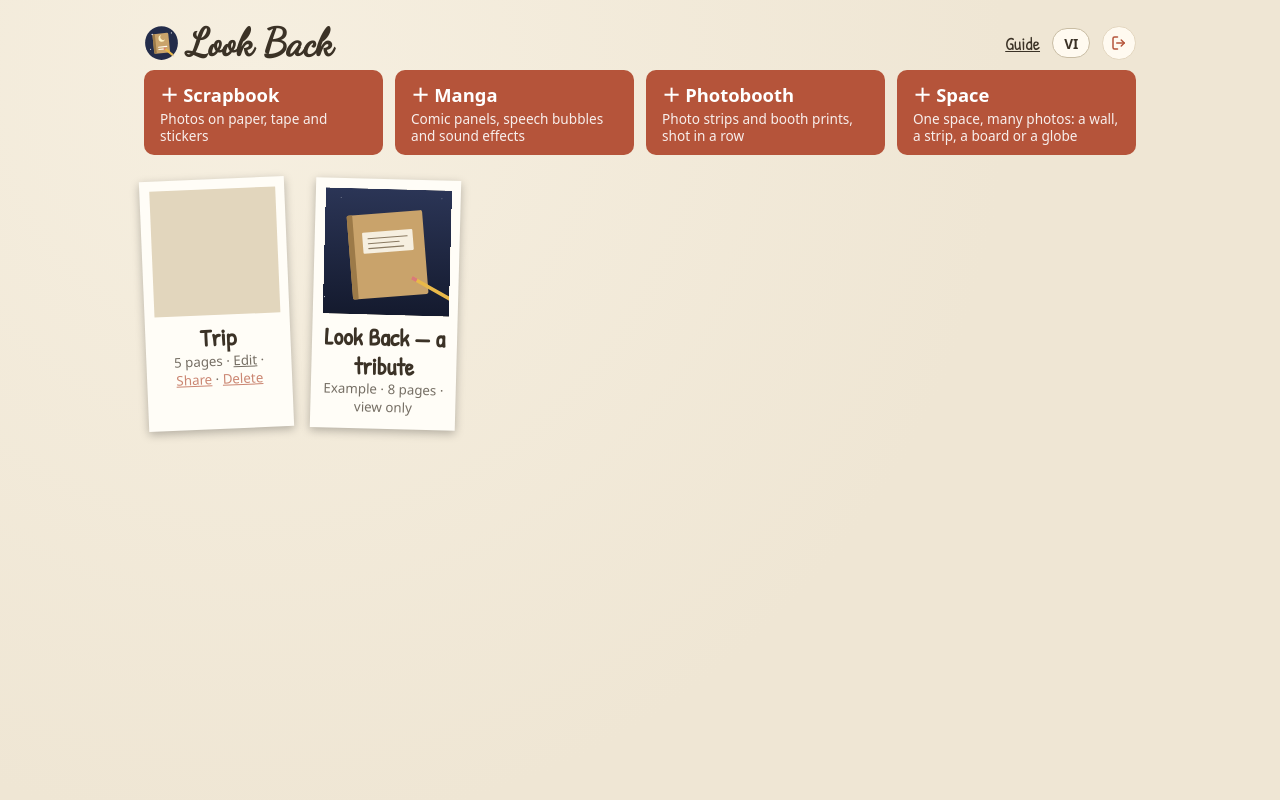
New album can start from another album’s design (sent as fromAlbumId) and lands first in the list
The width and height of the screenshot is (1280, 800).
Click the button with aria-label "New scrapbook album" at (264, 112), box left=144, top=70, right=383, bottom=155
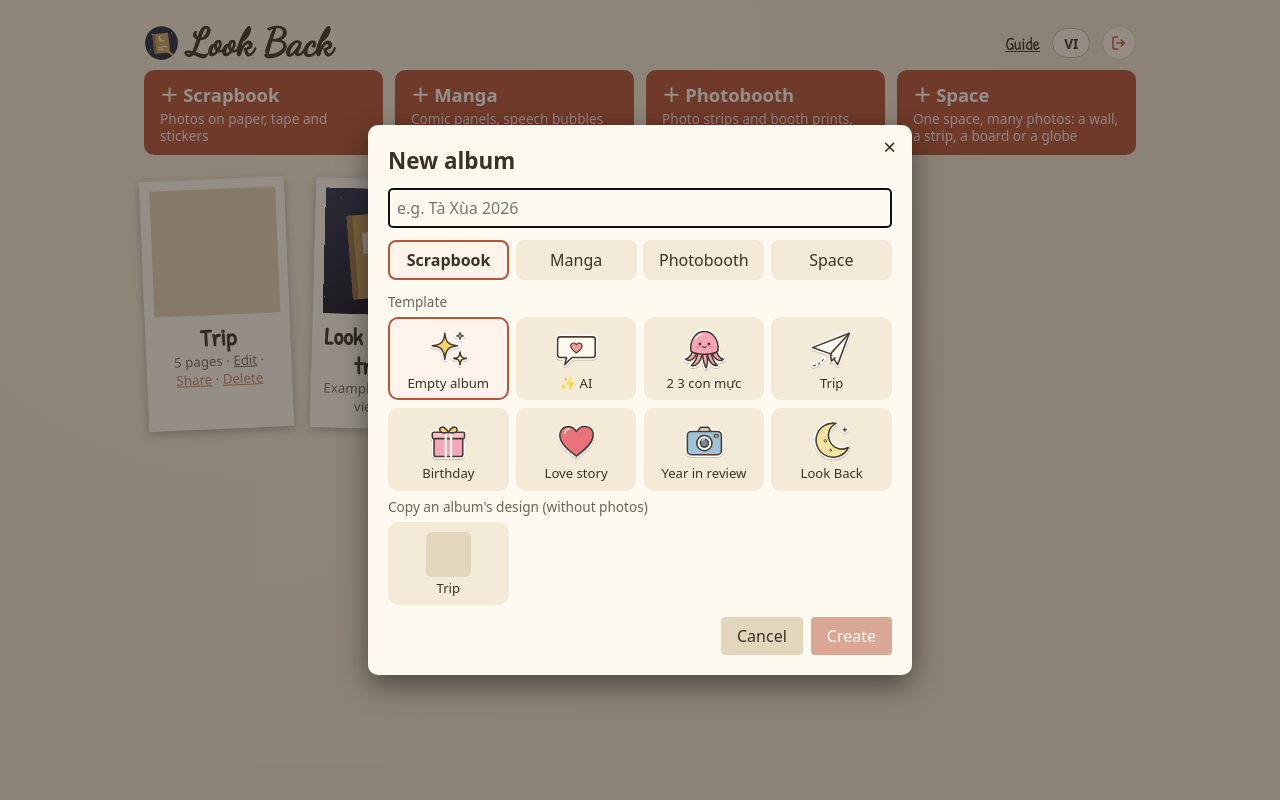
Type "Trip 2" into the field named "Album title" at (640, 208), box left=388, top=188, right=892, bottom=228
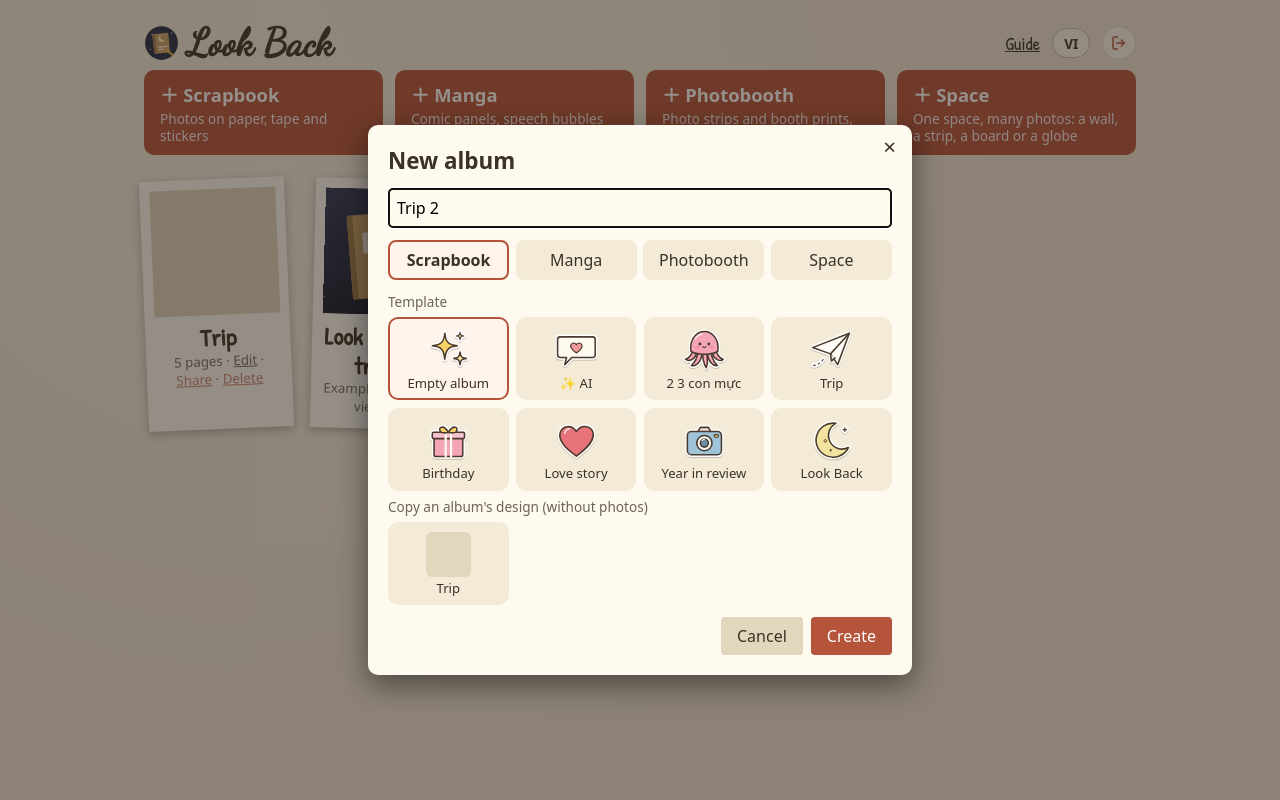
Click the 2nd radio button labelled "Trip" at (448, 564), box left=388, top=522, right=509, bottom=606
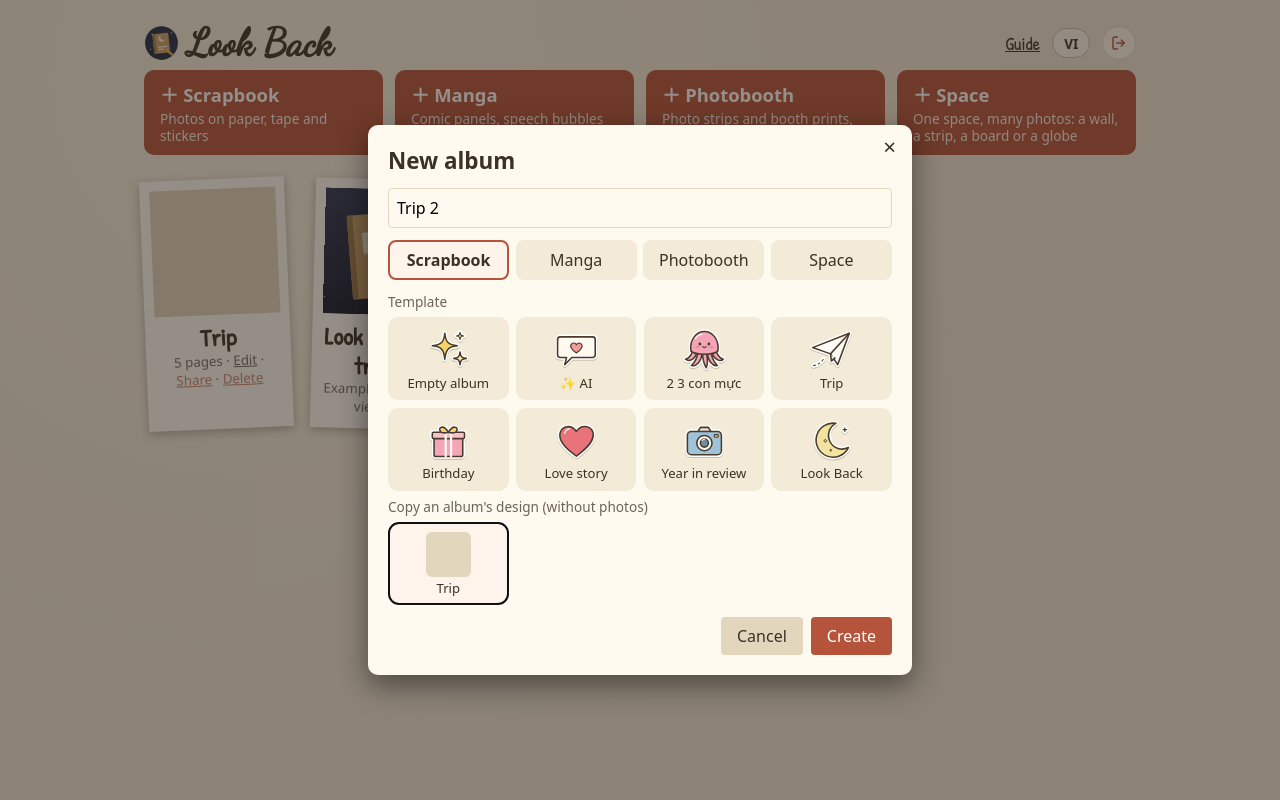
Click the button "Create" at (851, 636), box left=811, top=618, right=892, bottom=656
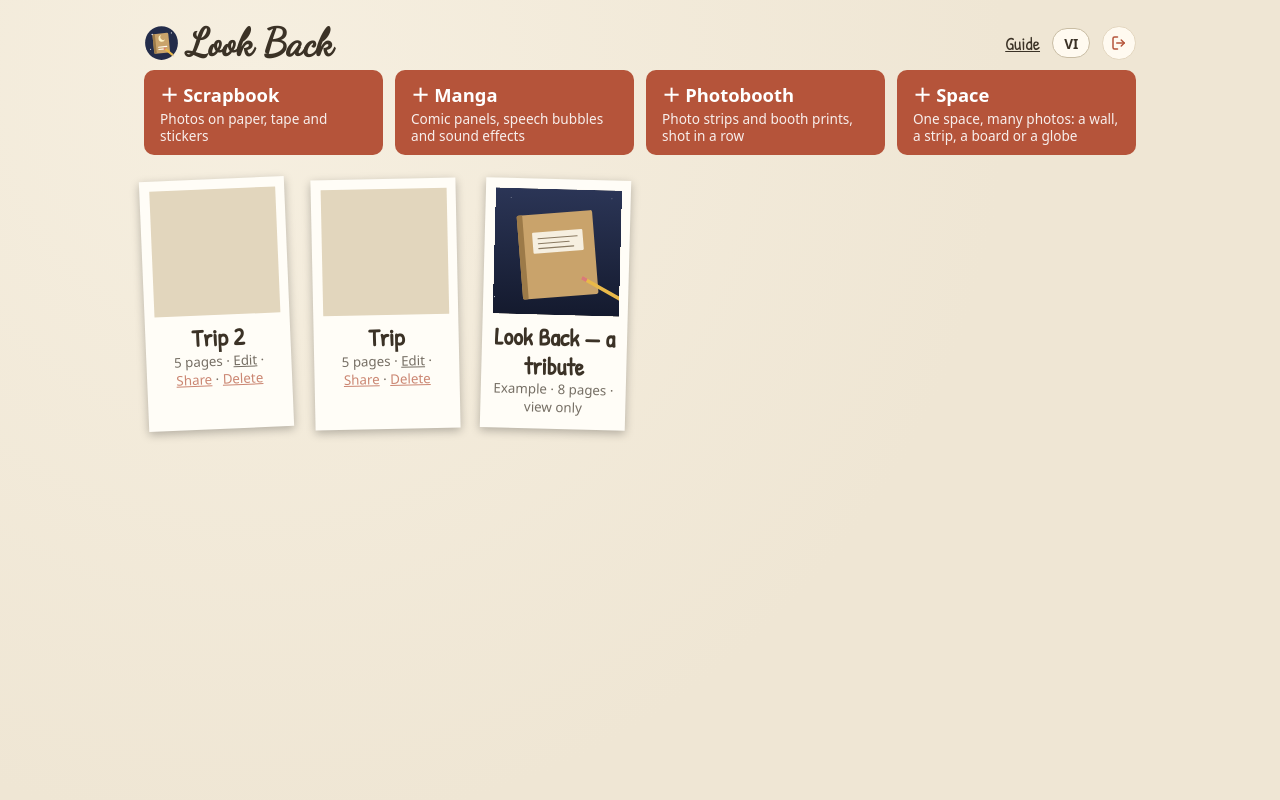
Now the link "Trip 2" is shown, box left=149, top=186, right=282, bottom=354
Now the text "5 pages · Edit · Share · Delete" is shown 2 times, box left=174, top=349, right=264, bottom=389; left=342, top=350, right=432, bottom=388
